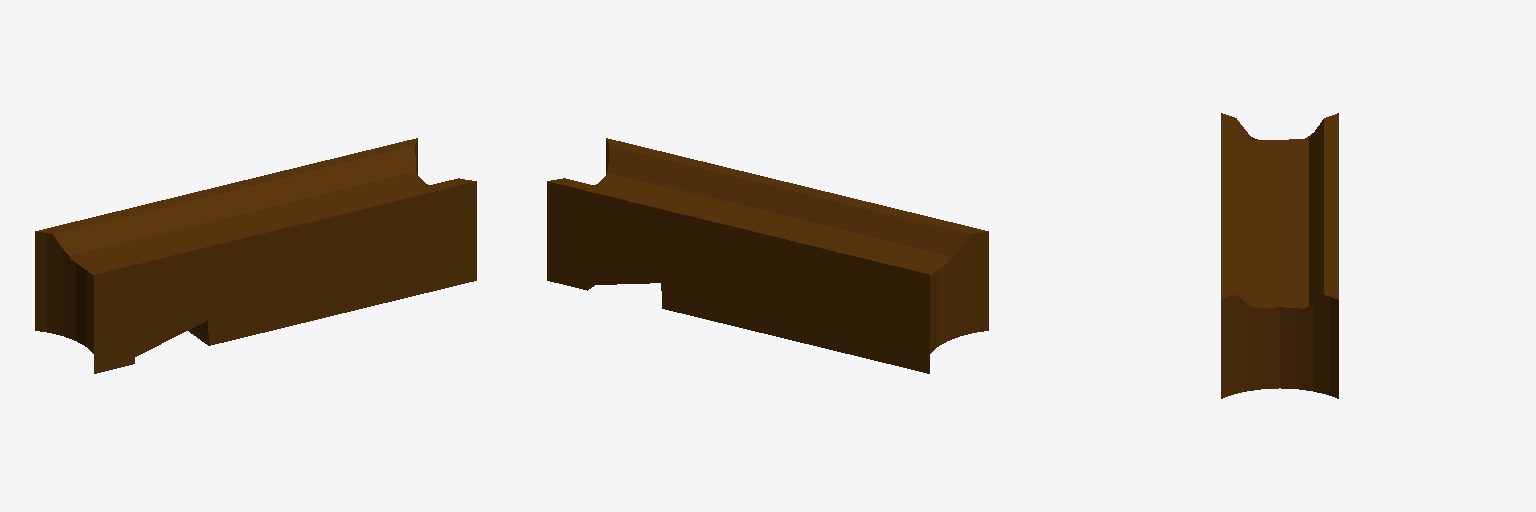
File: strasse.obj
The picture shows the model from 3 angles: view 1: azimuth 30°, elevation 25°; view 2: azimuth 150°, elevation 25°; view 3: azimuth 270°, elevation 25°; orthographic projection.
Visible parts, largest first — view 1: Catan_Round-End_Roads; view 2: Catan_Round-End_Roads; view 3: Catan_Round-End_Roads.
Part boxes in pixels (x1,y1,x2,y2): Catan_Round-End_Roads: (35,138,476,373); Catan_Round-End_Roads: (547,138,988,373); Catan_Round-End_Roads: (1221,113,1338,398).
Bounding box in the file's own units: 32.07 × 7.95 × 8.58.